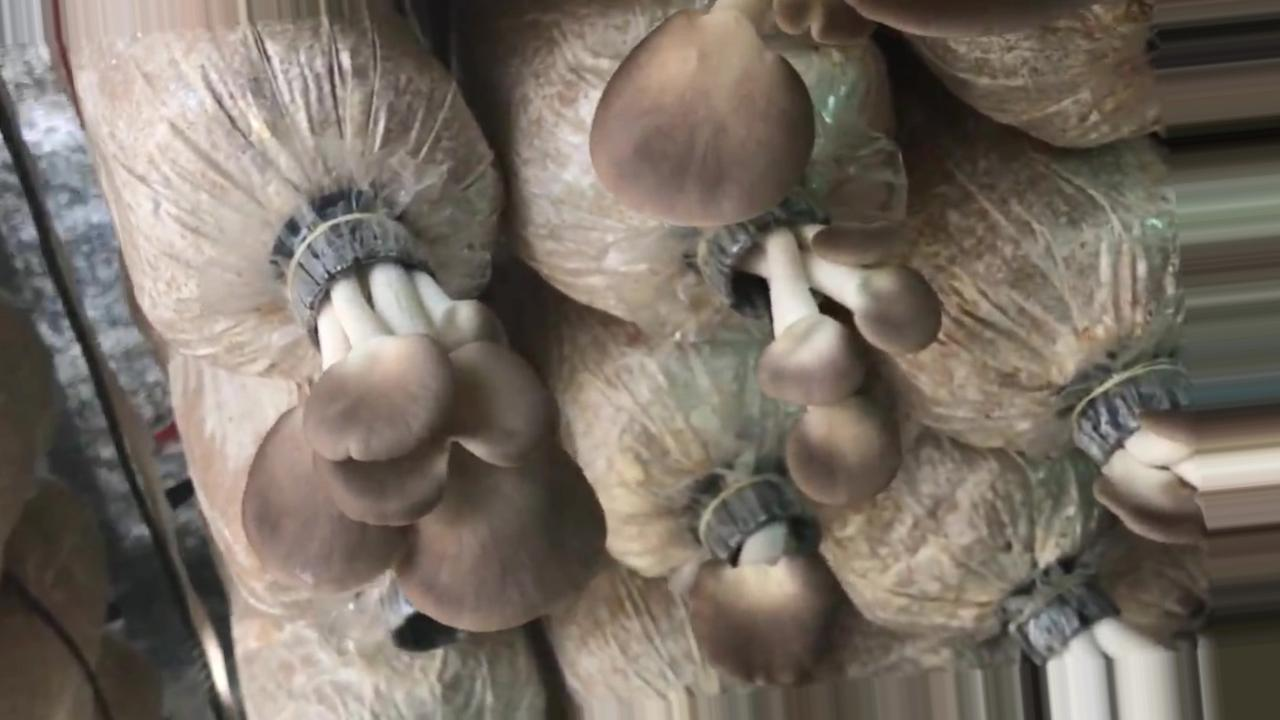nam: (248, 202, 601, 627), (591, 1, 1059, 224), (705, 198, 941, 501), (1081, 366, 1280, 538), (686, 498, 861, 691)
